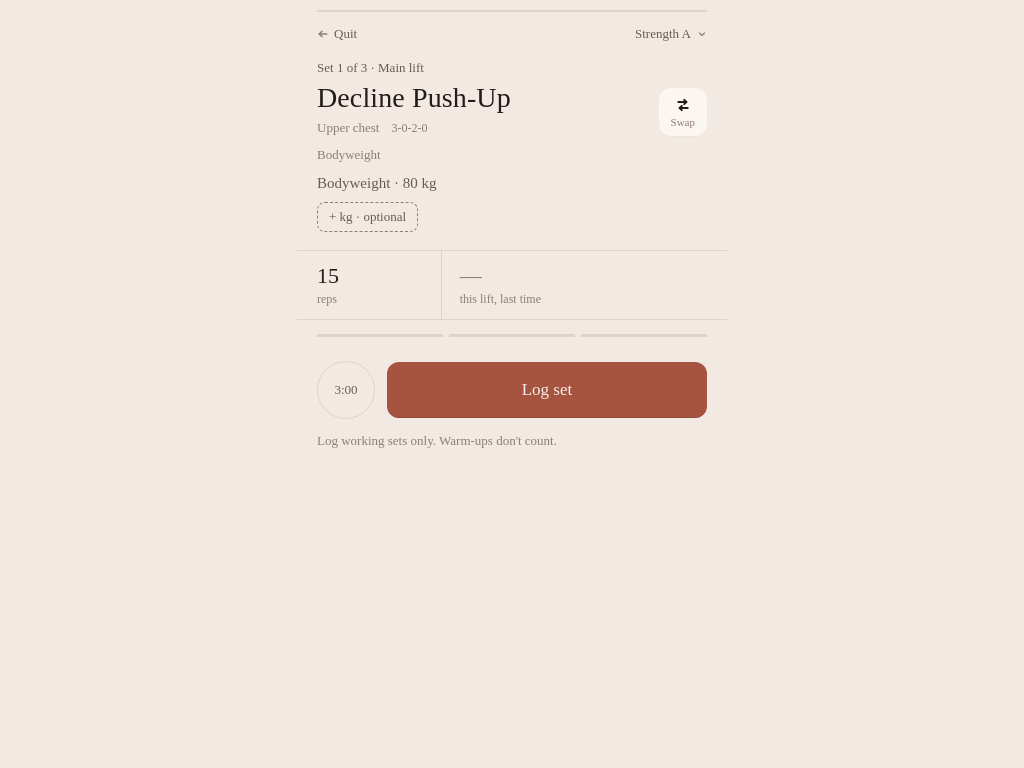
pure bodyweight lifts take an optional added weight — never W › the chip opens a drum: optional kg wheel, 0 reads "none" in the text face, reps unchanged
Step 1. Click the button "+ kg · optional" → (368, 217), box [317,202,418,232]
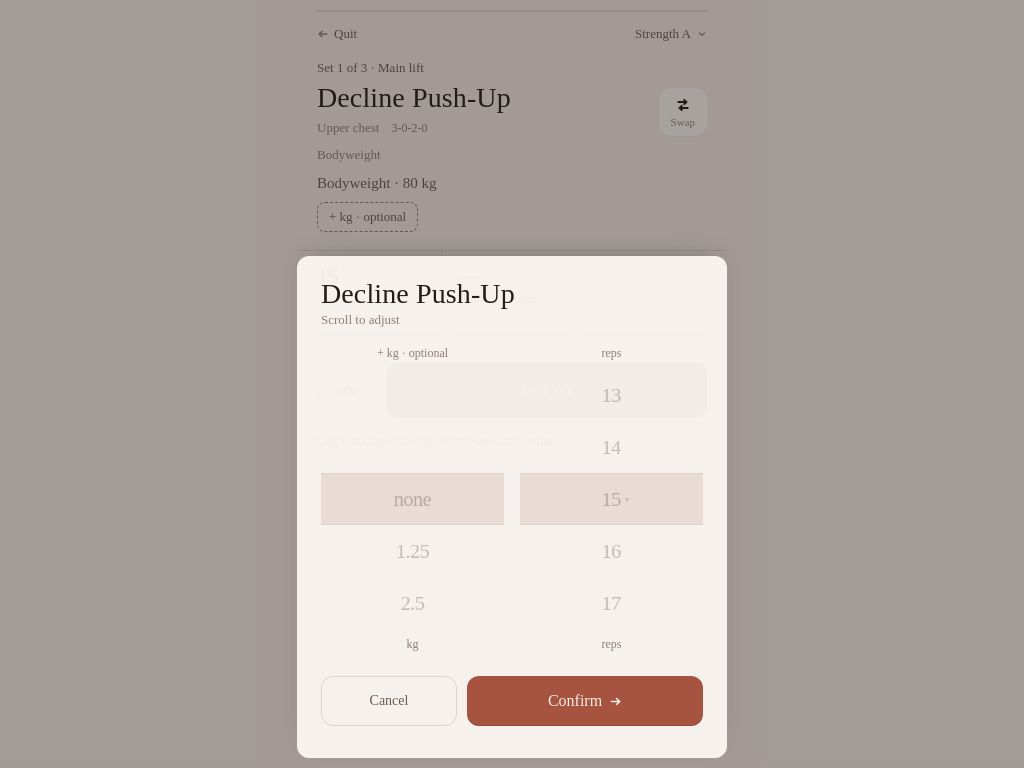
Result: the dialog is shown at [297,256,727,758]
Result: the text "+ kg · optional" is shown at [377,346,448,361]
Result: the 1st text "reps" is shown at [602,346,622,361]
